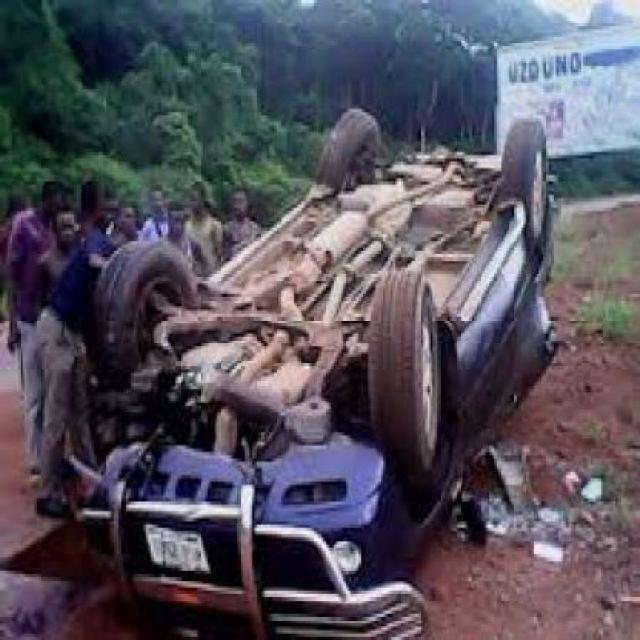accident: (85, 89, 558, 637)
